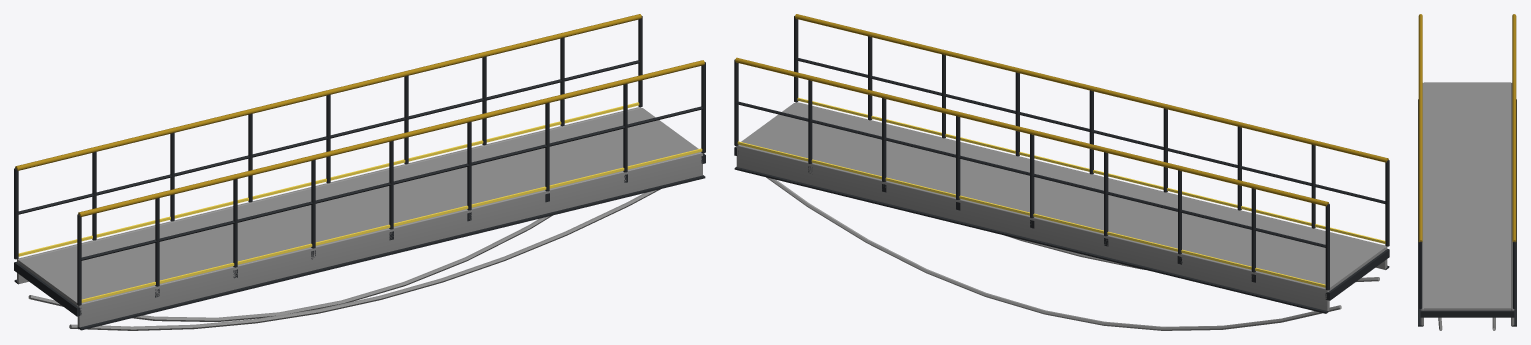
The model's file is Skybridge_Catwalk_8m.fbx.
3 views of the same model, side by side, from view 1: azimuth 30°, elevation 25°; view 2: azimuth 150°, elevation 25°; view 3: azimuth 270°, elevation 25° (orthographic). The views are drawn at different scales.
Visible parts, largest first — view 1: Skybridge_Catwalk_8m_LOD0; view 2: Skybridge_Catwalk_8m_LOD0; view 3: Skybridge_Catwalk_8m_LOD0.
Part boxes in pixels (x1,y1,x2,y2): Skybridge_Catwalk_8m_LOD0: (14,14,705,330); Skybridge_Catwalk_8m_LOD0: (734,14,1389,330); Skybridge_Catwalk_8m_LOD0: (1418,14,1516,330).
Size of what is drawn, in the model's own units: 8.06 by 2.5 by 1.48.
